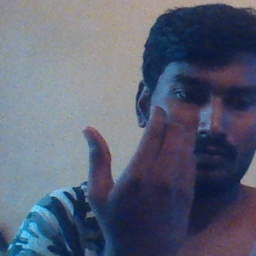U: (73, 106, 195, 226)
